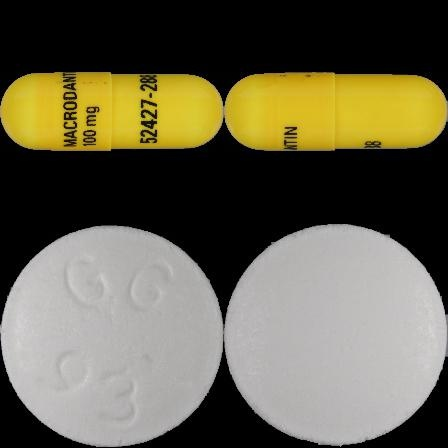66267-156: (0, 0, 224, 224)
